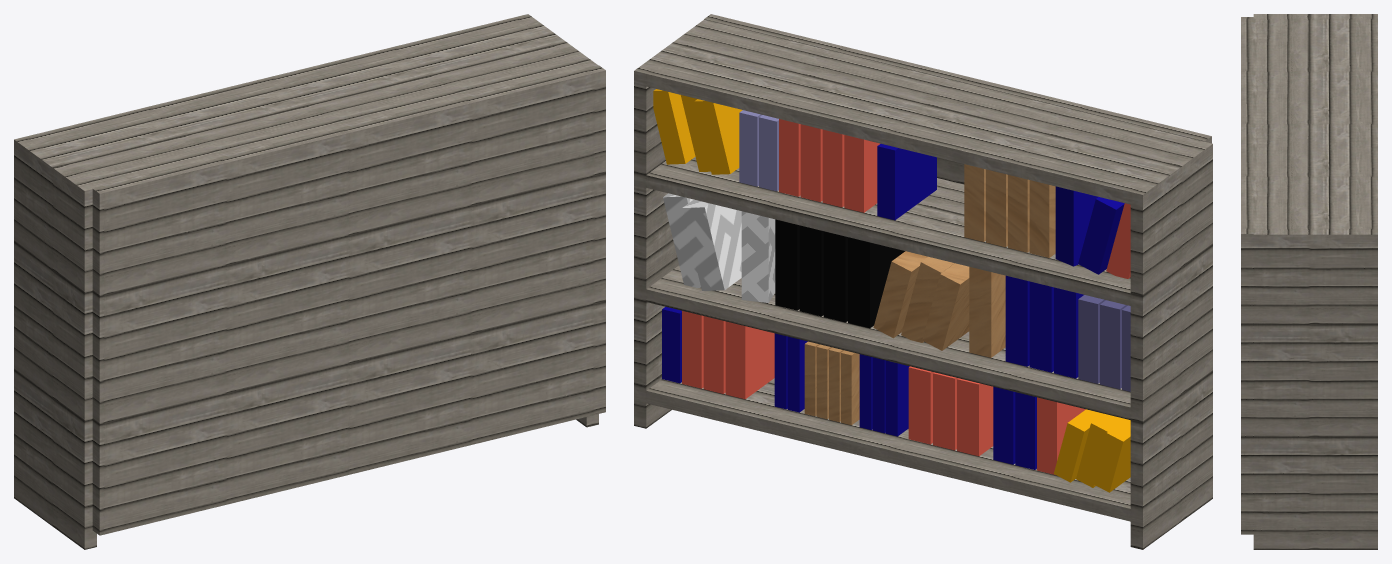
File: bookshelf.fbx
3 renders of one model, left to right at view 1: azimuth 30°, elevation 25°; view 2: azimuth 150°, elevation 25°; view 3: azimuth 270°, elevation 25°, orthographic. The views are drawn at different scales.
Visible parts, largest first — view 1: mergedBlocks; view 2: mergedBlocks; view 3: mergedBlocks.
Part boxes in pixels (x1=…): mergedBlocks: x1=14, y1=14, x2=605, y2=549; mergedBlocks: x1=634, y1=14, x2=1212, y2=549; mergedBlocks: x1=1241, y1=14, x2=1377, y2=549.
Size of the model in its own units: 42 by 28.04 by 11.
